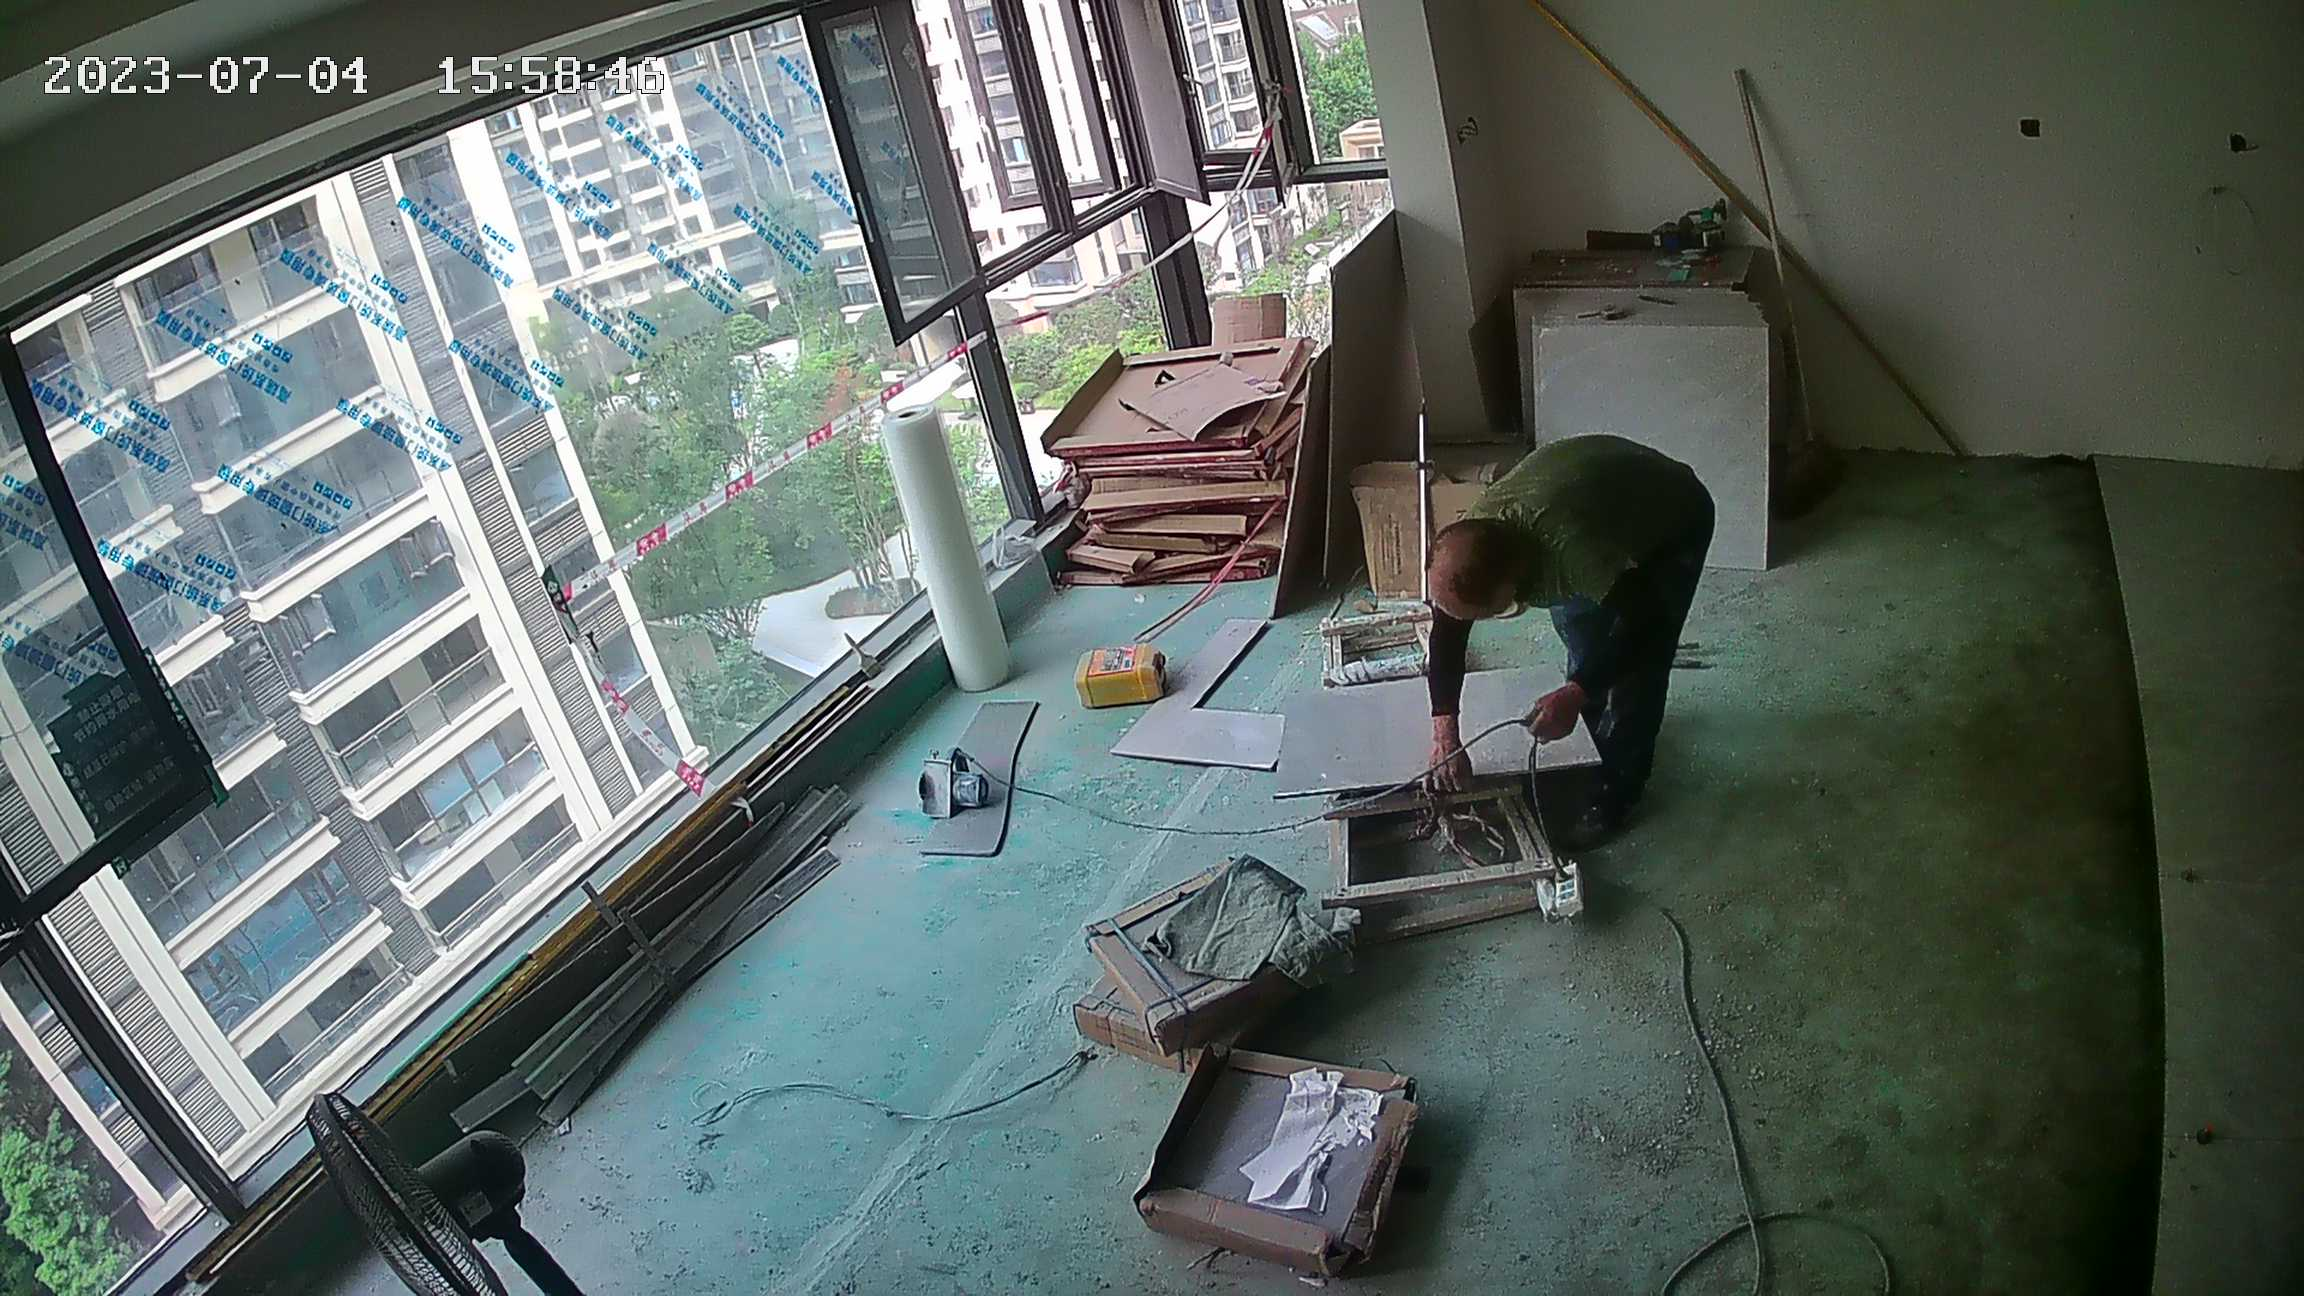people: (1383, 424, 1706, 900)
window: (1, 125, 1212, 956)
